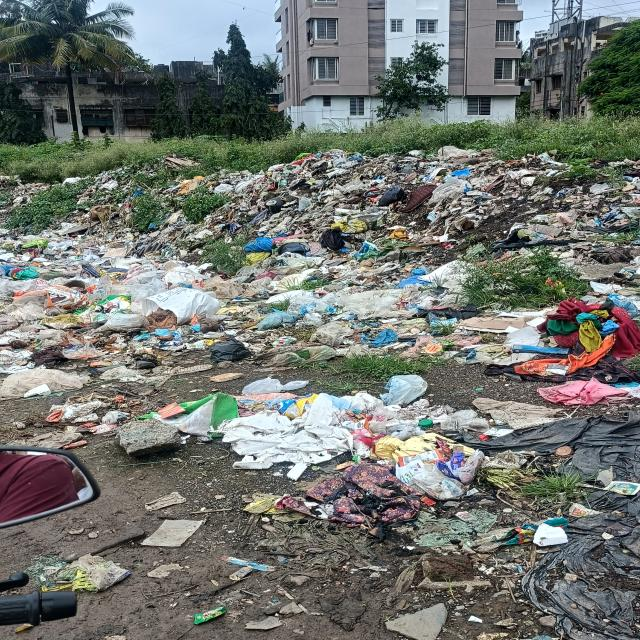garbage: (13, 170, 640, 435), (243, 444, 640, 632)
